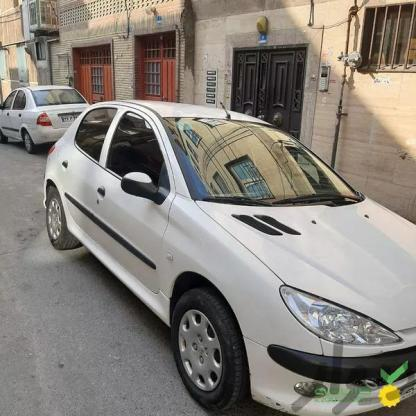Car: (41, 86, 416, 416), (0, 84, 101, 142)
